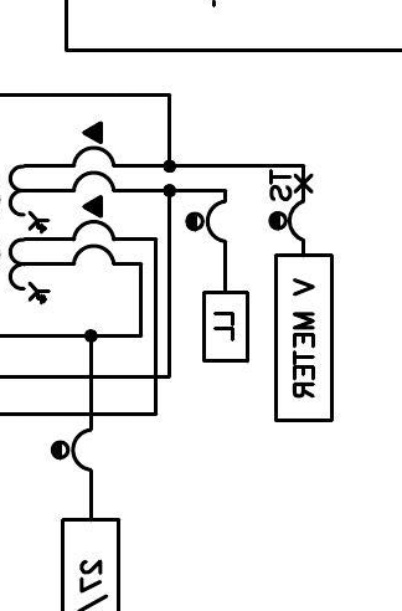LL: (201, 290, 251, 364)
v_m_digital: (273, 252, 335, 423)
